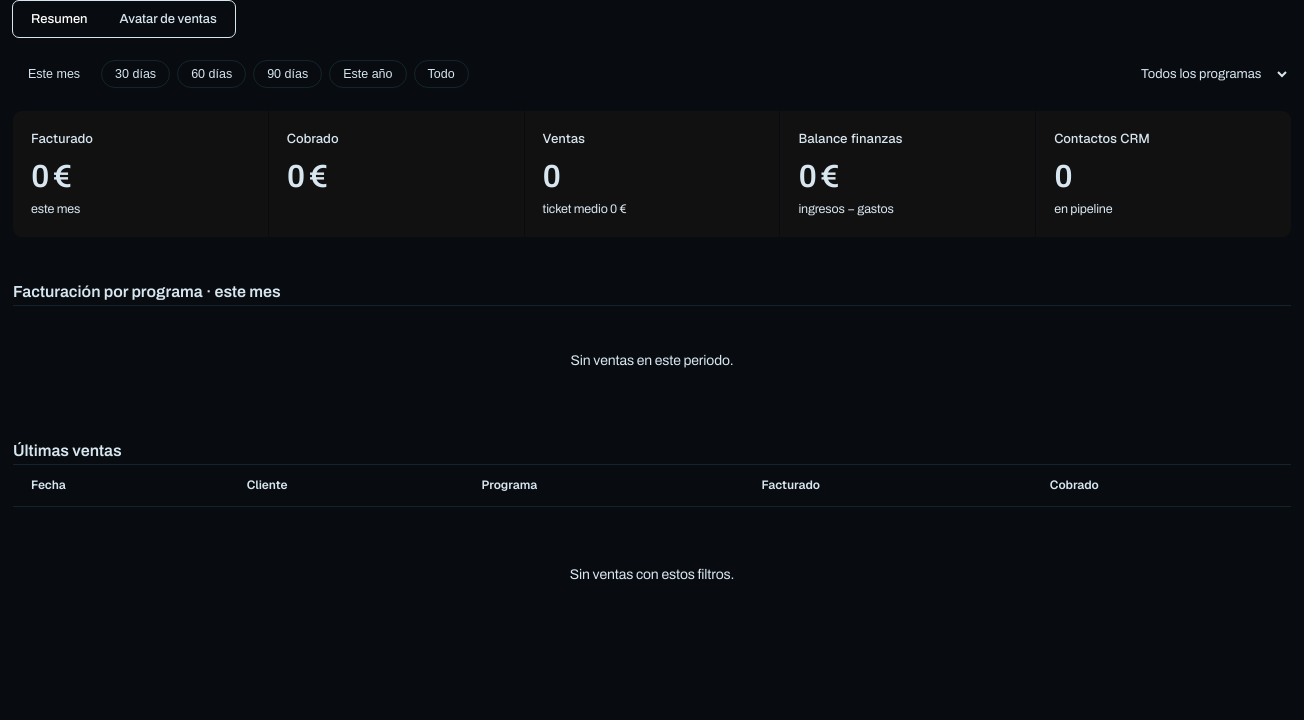
Informe · pestaña Avatar de ventas › la pestaña enseña el avatar, con su raíz propia y sus textos nuevos
Click the button "Avatar de ventas" at coordinates (168, 19), box [106, 5, 231, 33]
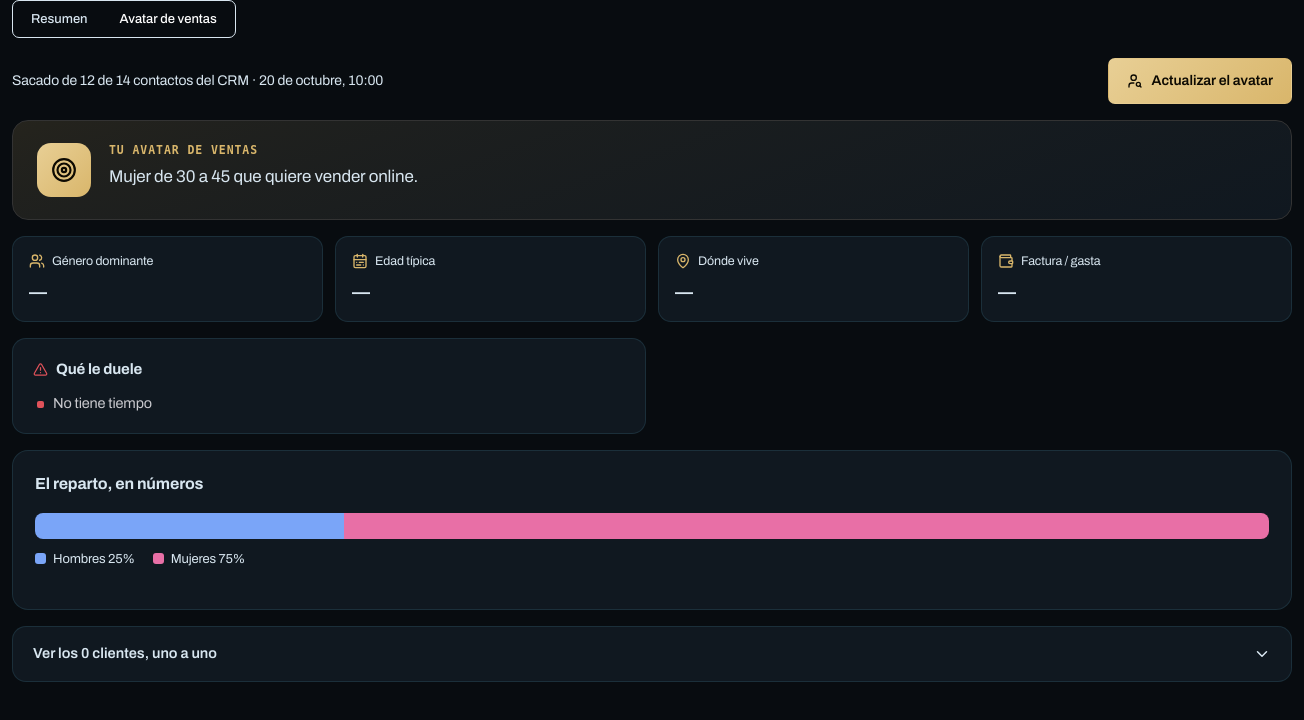
Check: the text "Tu avatar de ventas" is shown, box [109, 143, 258, 157]
Check: the element with class "av-estudio" is shown
Check: the button "Actualizar el avatar" is shown, box [1108, 58, 1292, 104]
Click the button "Resumen" at coordinates (59, 19), box [17, 5, 102, 33]
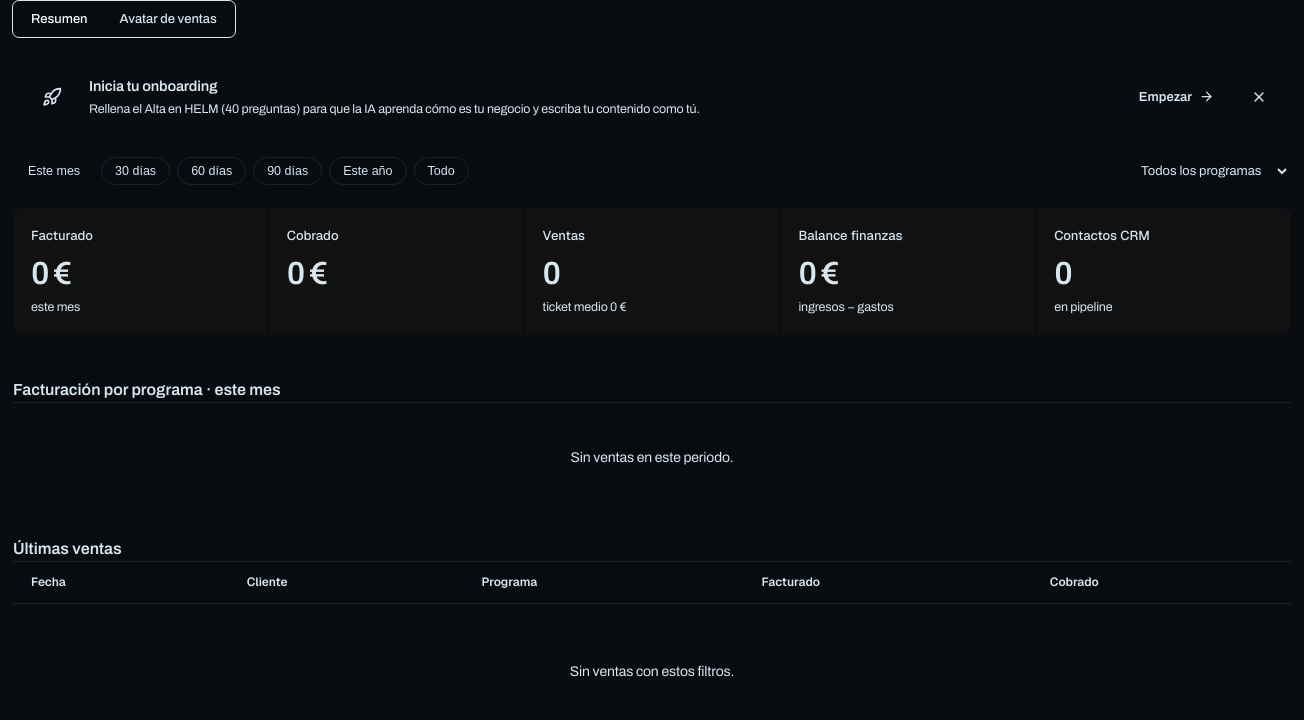
Check: the element with class "av-estudio" is gone
